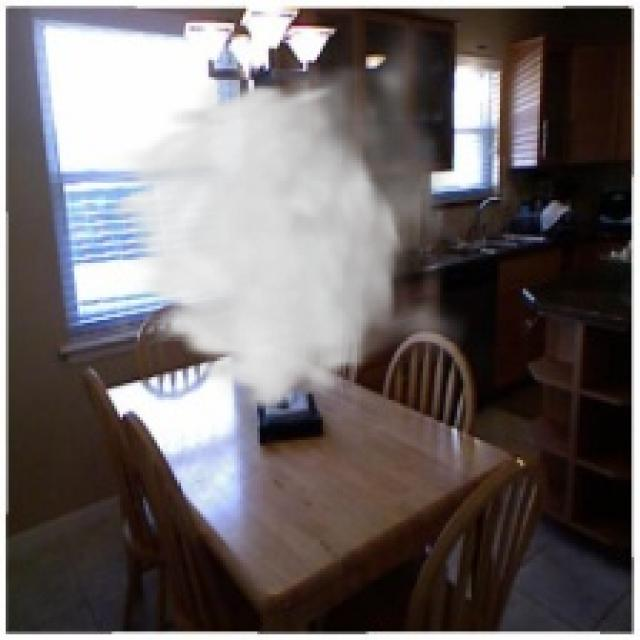smoke: (100, 12, 474, 414)
